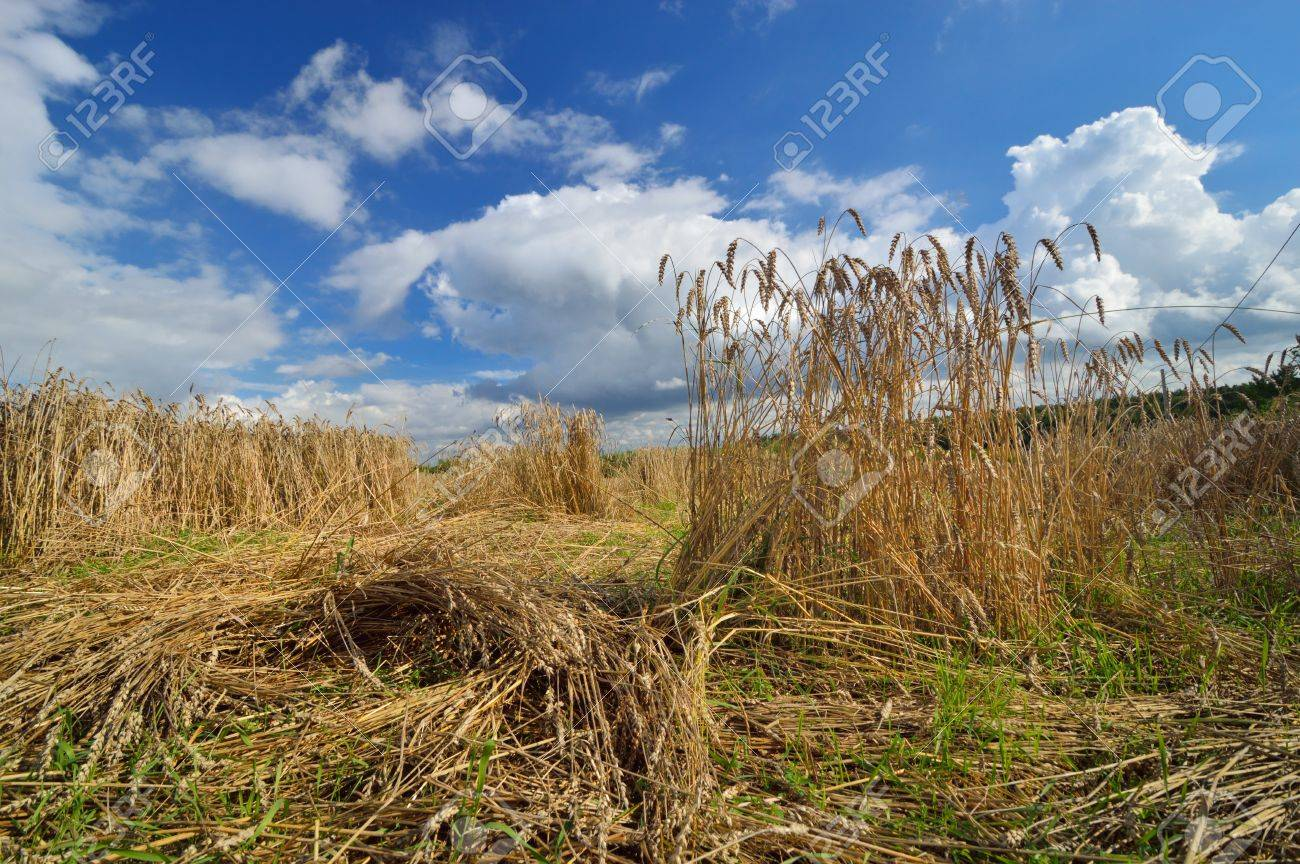damaged_wheat: (683, 245, 1088, 600), (59, 520, 492, 800), (551, 609, 993, 839), (1072, 613, 1300, 848)
